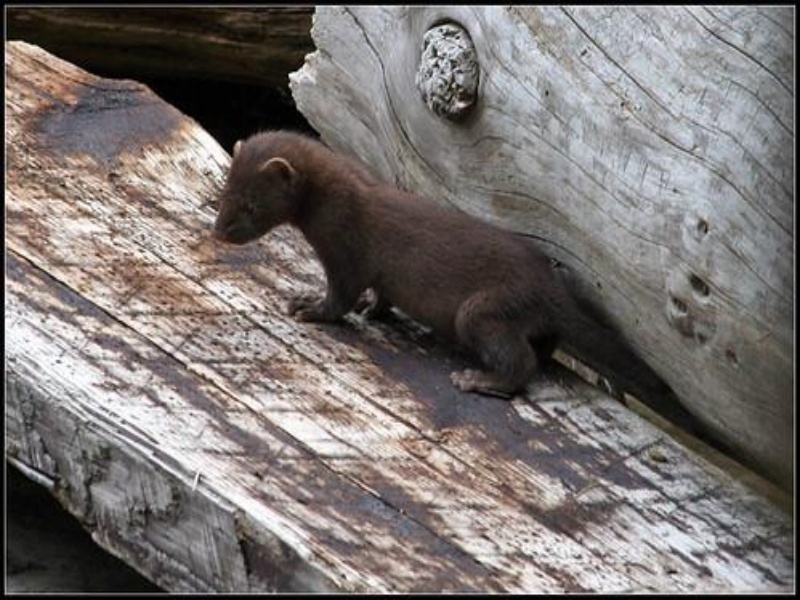minkish: (213, 129, 719, 448)
